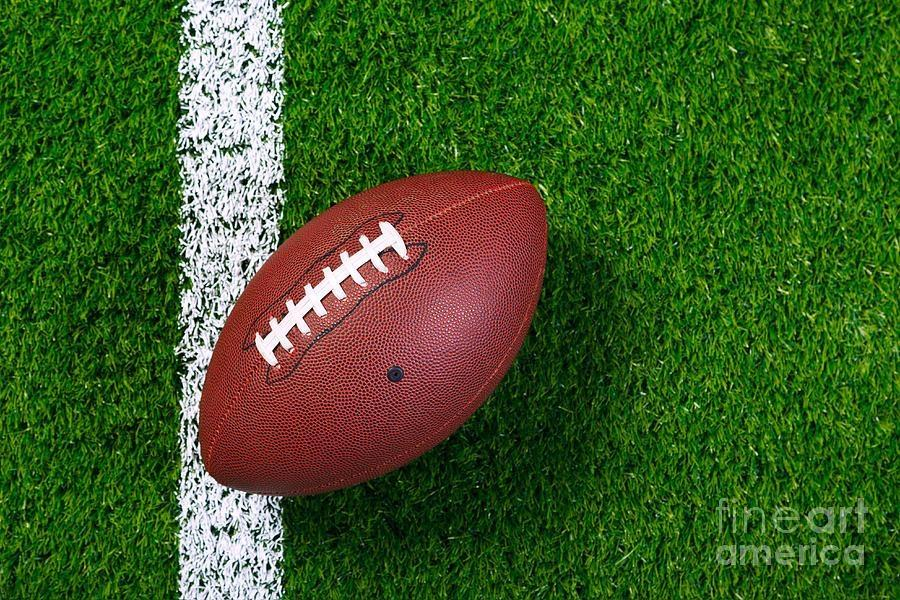Sports-Ball: (198, 171, 546, 496)
